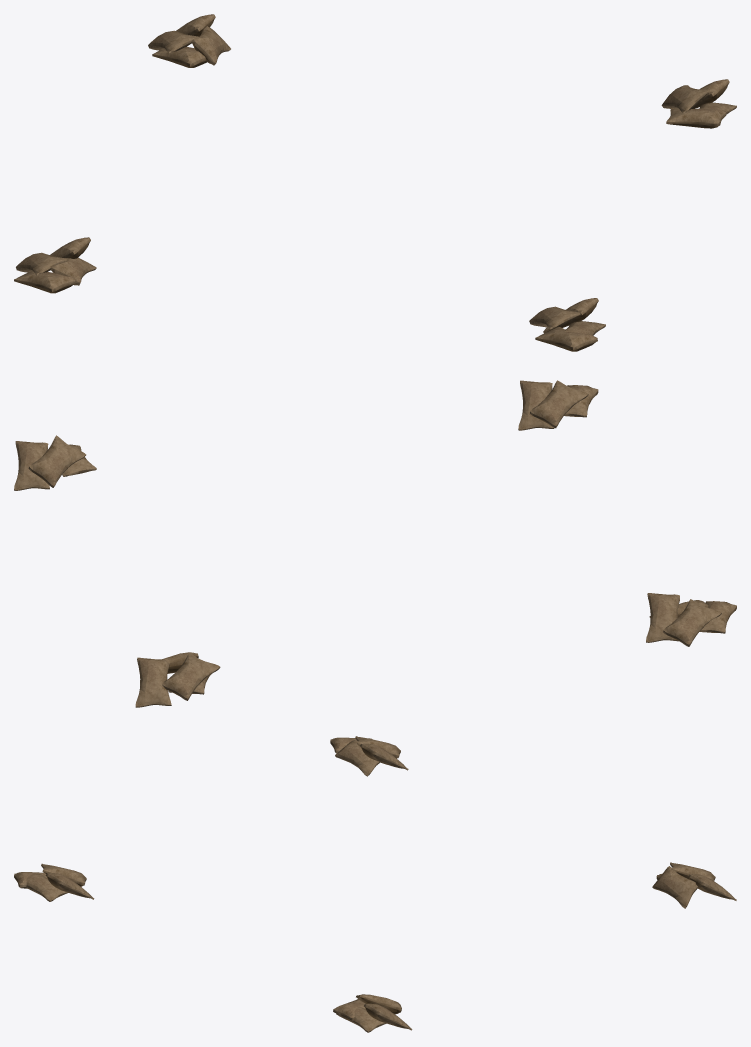
Rendered from LVR_Sandbags2.fbx.
The picture shows the model from 3 angles, top to bottom: view 1: azimuth 30°, elevation 25°; view 2: azimuth 150°, elevation 25°; view 3: azimuth 270°, elevation 25°; orthographic projection. The views are drawn at different scales.
Visible parts, largest first — view 1: Sandbags; view 2: Sandbags; view 3: Sandbags.
Boxes of the visible parts, x1=… form: Sandbags: x1=14, y1=14, x2=736, y2=351; Sandbags: x1=14, y1=380, x2=736, y2=707; Sandbags: x1=14, y1=736, x2=736, y2=1032.
Size of the model in its own units: 210 by 10.26 by 219.
Materials: 1 (1 with a texture image).
